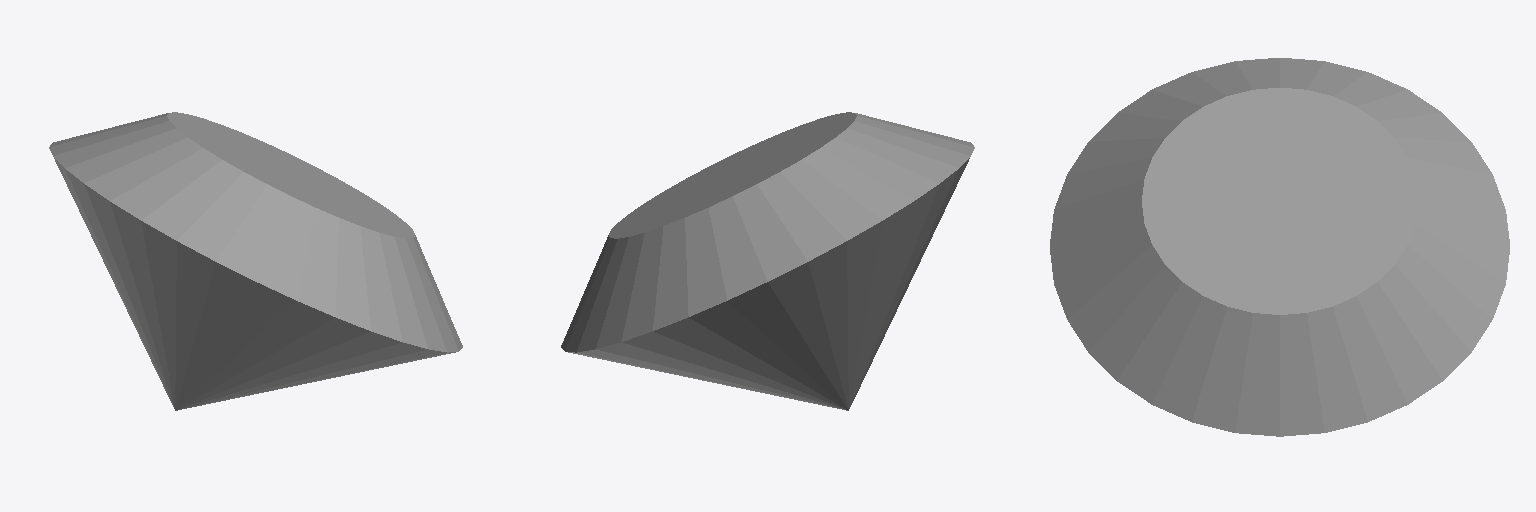
File: diamond.obj
3 views of the same model, side by side, from view 1: azimuth 30°, elevation 25°; view 2: azimuth 150°, elevation 25°; view 3: azimuth 270°, elevation 25° (orthographic).
Visible parts, largest first — view 1: Diamond_Diamond.001; view 2: Diamond_Diamond.001; view 3: Diamond_Diamond.001.
Part boxes in pixels (x1,y1,x2,y2): Diamond_Diamond.001: (49, 112, 462, 410); Diamond_Diamond.001: (561, 112, 974, 410); Diamond_Diamond.001: (1050, 58, 1509, 436).
Size of the model in its own units: 1.02 by 0.7673 by 1.18.